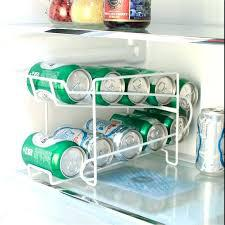beer: (21, 58, 194, 174), (195, 106, 225, 175)
